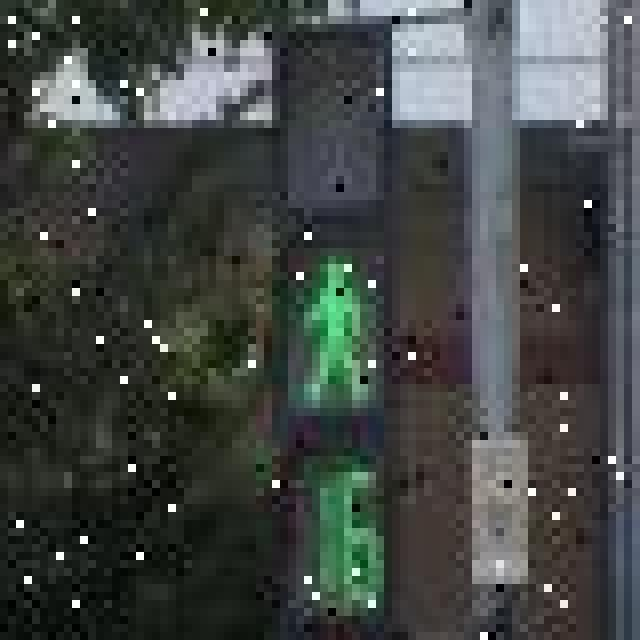greenlight: (256, 32, 392, 440)
